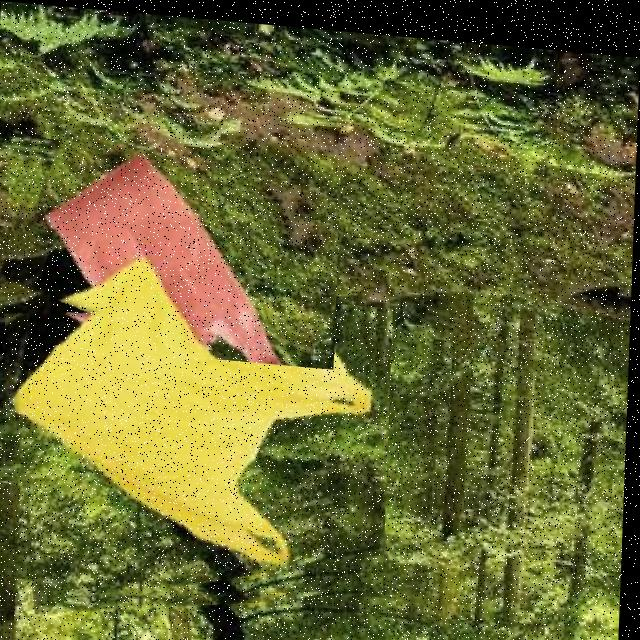litter: (6, 274, 394, 624), (6, 133, 341, 362)
